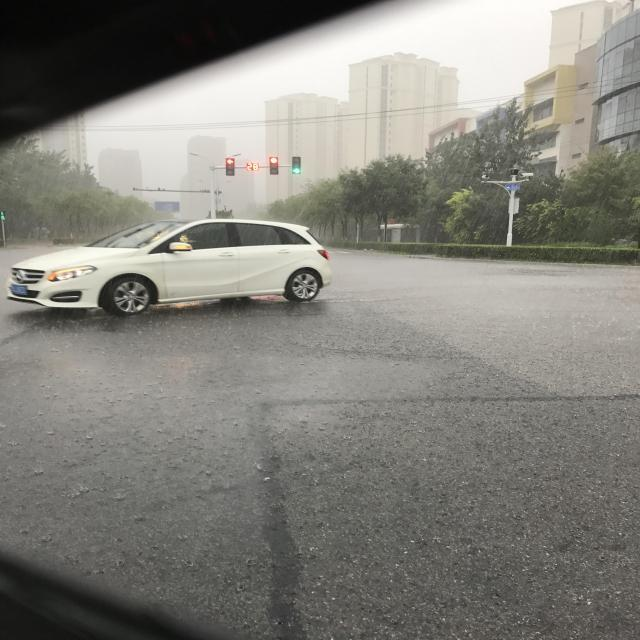car: (218, 307, 318, 634)
